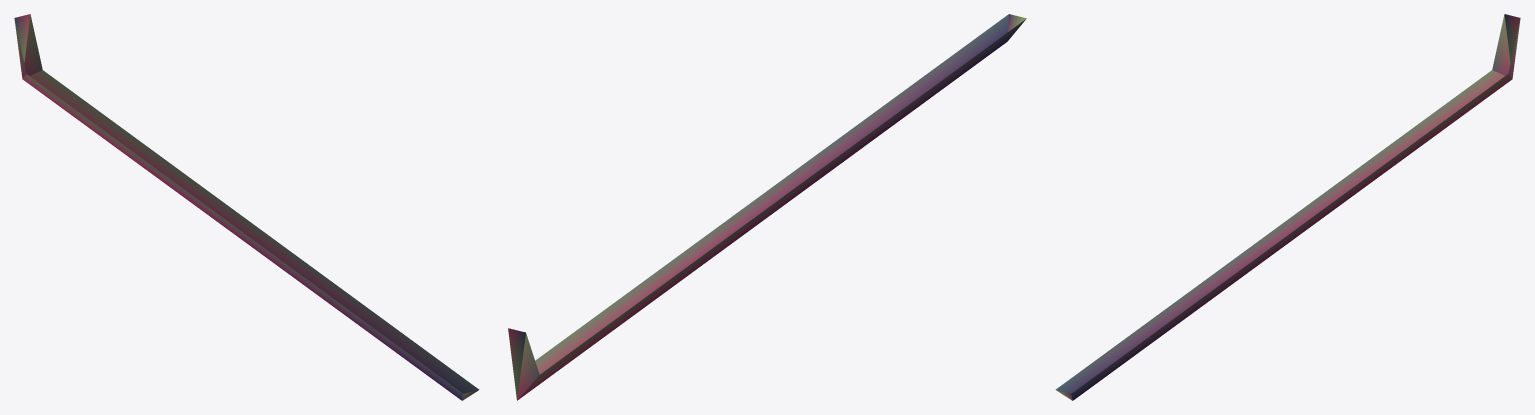
File: Eff_Anbi_Attack_EXQTE_plan_lc_003.fbx
The picture shows the model from 3 angles, left to right: view 1: azimuth 30°, elevation 25°; view 2: azimuth 150°, elevation 25°; view 3: azimuth 330°, elevation 25°; orthographic projection. The views are drawn at different scales.
Parts seen in each view (by area): view 1: Eff_Anbi_Attack_EXQTE_plan_lc_003; view 2: Eff_Anbi_Attack_EXQTE_plan_lc_003; view 3: Eff_Anbi_Attack_EXQTE_plan_lc_003.
Part boxes in pixels (x1,y1,x2,y2): Eff_Anbi_Attack_EXQTE_plan_lc_003: [14, 14, 479, 400]; Eff_Anbi_Attack_EXQTE_plan_lc_003: [508, 14, 1026, 400]; Eff_Anbi_Attack_EXQTE_plan_lc_003: [1055, 14, 1520, 400].
Size of the model in its own units: 0.0149 by 0.0558 by 0.7168.
